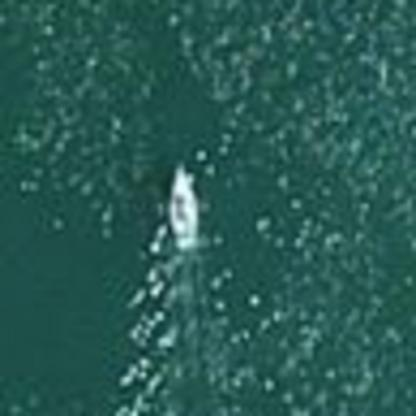ship: (158, 154, 210, 254)
